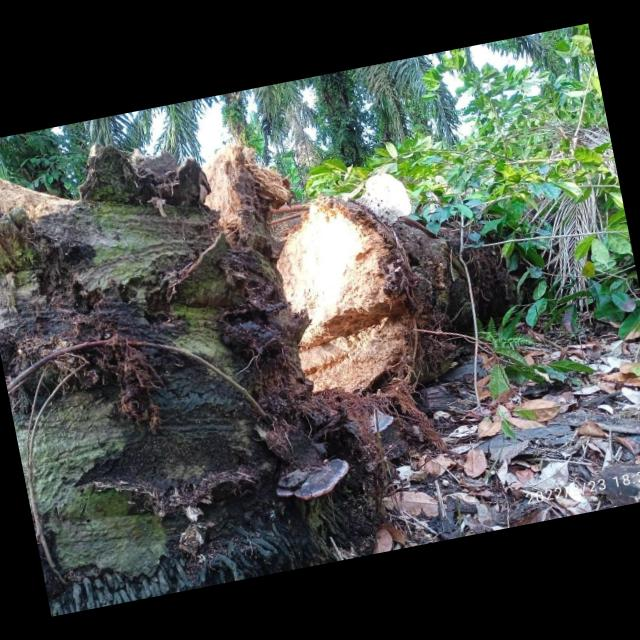ganoderma: (274, 457, 355, 507)
